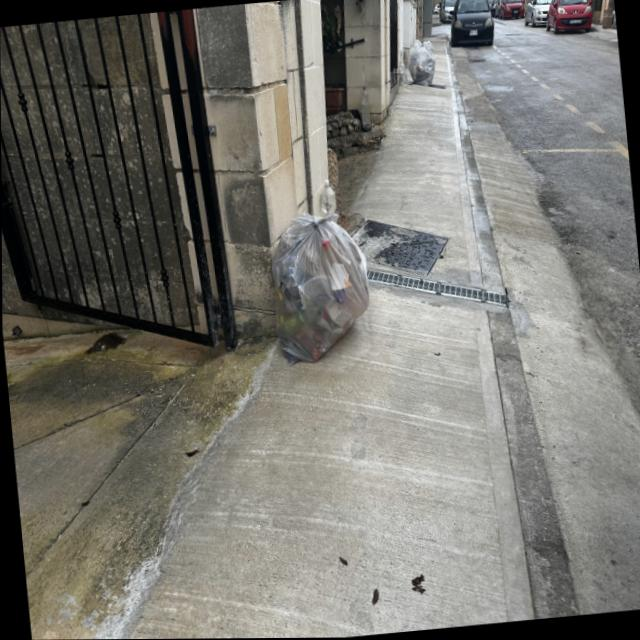Recyclable Material -Grey Bags-: (271, 212, 369, 365)
